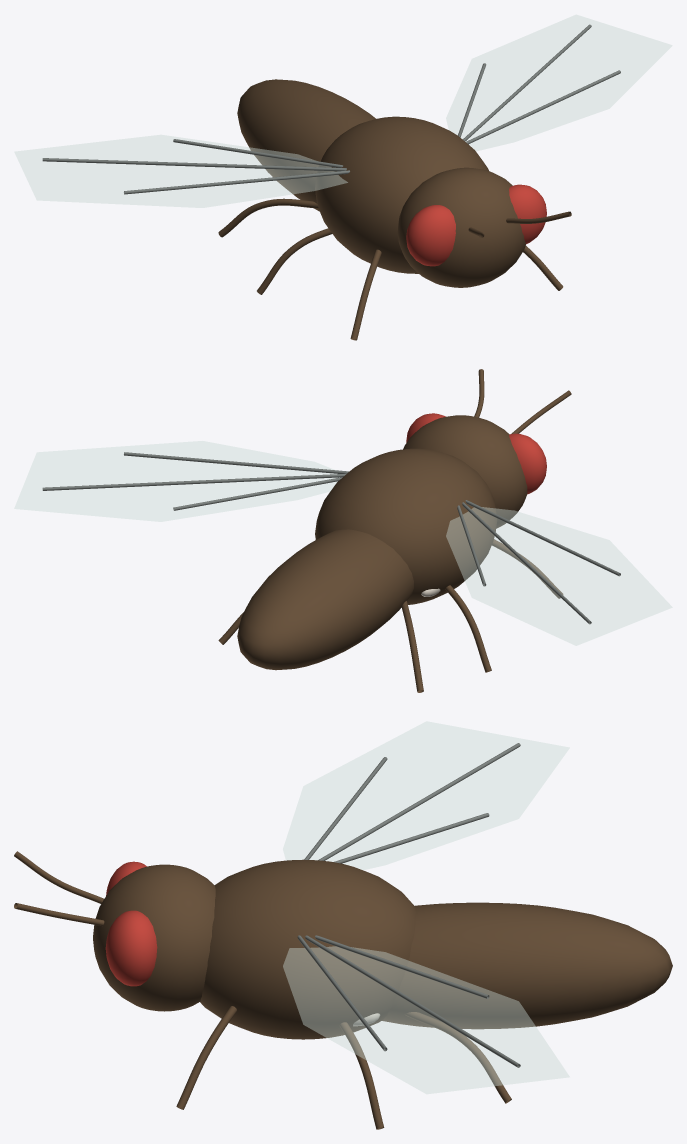
Rendered from aerosense_fly_v2.glb.
3 views of the same model, one above another, from view 1: azimuth 30°, elevation 25°; view 2: azimuth 150°, elevation 25°; view 3: azimuth 270°, elevation 25° (orthographic). The views are drawn at different scales.
Visible parts, largest first — view 1: Wing_RIGHT_GEO, Wing_LEFT_GEO, Thorax, Head, Abdomen, Eye_L, Eye_R, Wing_LEFT_Vein_0, Wing_LEFT_Vein_1, Leg_04, Leg_02, Wing_LEFT_Vein_2 (+3 smaller); view 2: Wing_LEFT_GEO, Wing_RIGHT_GEO, Abdomen, Thorax, Head, Eye_L, Wing_RIGHT_Vein_0, Wing_RIGHT_Vein_1, Leg_02, Wing_RIGHT_Vein_2, Wing_LEFT_Vein_1, Wing_LEFT_Vein_0 (+1 smaller); view 3: Thorax, Abdomen, Wing_LEFT_GEO, Wing_RIGHT_GEO, Head, Eye_R, Leg_05, Wing_RIGHT_Vein_0, Wing_LEFT_Vein_0, Leg_01, Leg_03, Wing_RIGHT_Vein_2 (+4 smaller).
Boxes of the visible parts, x1,y1,x2,y2 form: Wing_RIGHT_GEO: (446, 14, 672, 151); Wing_LEFT_GEO: (14, 135, 347, 207); Thorax: (315, 116, 488, 273); Head: (397, 167, 525, 287); Abdomen: (237, 79, 375, 211); Eye_L: (406, 205, 455, 266); Eye_R: (509, 184, 546, 243); Wing_LEFT_Vein_0: (42, 158, 346, 171); Wing_LEFT_Vein_1: (124, 170, 349, 194); Leg_04: (218, 198, 318, 237); Leg_02: (257, 228, 332, 294); Wing_LEFT_Vein_2: (173, 139, 342, 167); Wing_LEFT_GEO: (446, 507, 672, 645); Wing_RIGHT_GEO: (14, 441, 337, 521); Abdomen: (237, 529, 413, 670); Thorax: (315, 448, 497, 604); Head: (403, 415, 527, 528); Eye_L: (509, 433, 546, 494); Wing_RIGHT_Vein_0: (42, 473, 346, 490); Wing_RIGHT_Vein_1: (124, 452, 349, 473); Leg_02: (445, 585, 491, 672); Wing_RIGHT_Vein_2: (173, 477, 342, 510); Wing_LEFT_Vein_1: (465, 500, 620, 576); Wing_LEFT_Vein_0: (462, 502, 591, 624); Thorax: (200, 859, 416, 1039); Abdomen: (382, 902, 672, 1029); Wing_LEFT_GEO: (283, 721, 569, 869); Wing_RIGHT_GEO: (283, 946, 569, 1093); Head: (93, 864, 215, 1011); Eye_R: (105, 910, 157, 986); Leg_05: (405, 1012, 511, 1103); Wing_RIGHT_Vein_0: (305, 935, 520, 1067); Wing_LEFT_Vein_0: (318, 743, 520, 860); Leg_01: (176, 1006, 236, 1109); Leg_03: (339, 1022, 384, 1129); Wing_RIGHT_Vein_2: (315, 935, 489, 998).
Bounding box in the file's own units: 1.72 × 0.4148 × 1.28.
